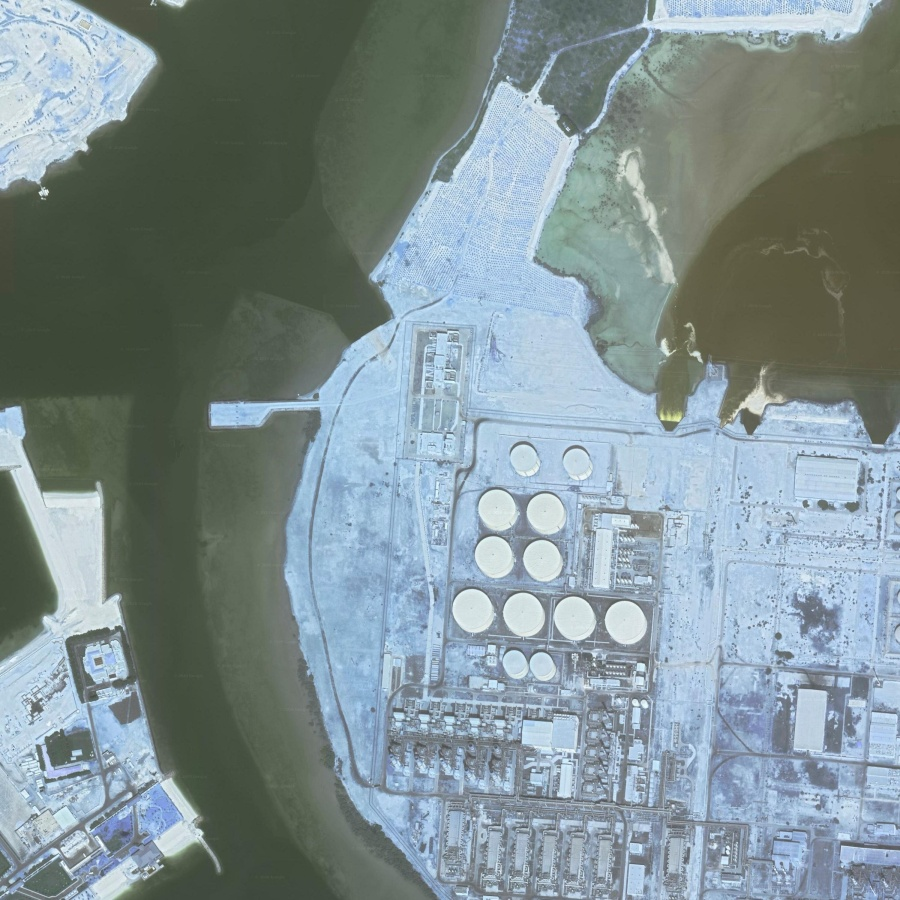PowerPlant: (380, 429, 680, 818)
